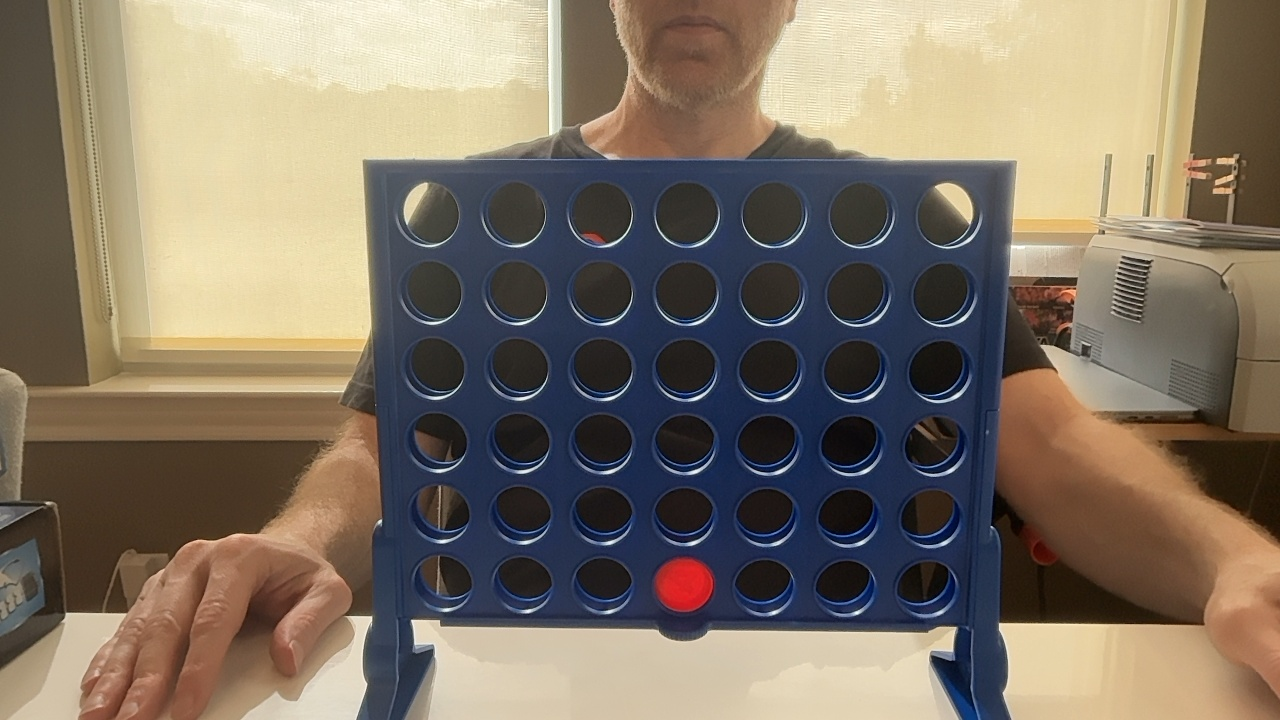red piece: (654, 557, 714, 612)
